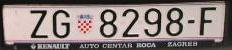-: (186, 20, 195, 23)
2: (123, 8, 139, 37)
8: (166, 8, 183, 36), (100, 10, 116, 37)
9: (145, 8, 161, 37)
F: (200, 7, 217, 35)
G: (53, 10, 70, 38)
Z: (30, 10, 48, 38)
